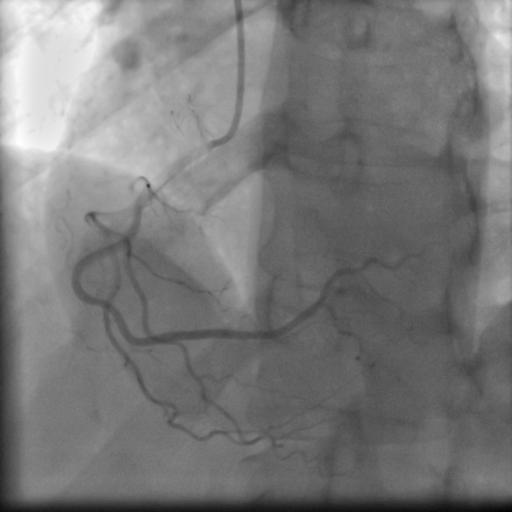Stenosis: (91, 289, 121, 323)
